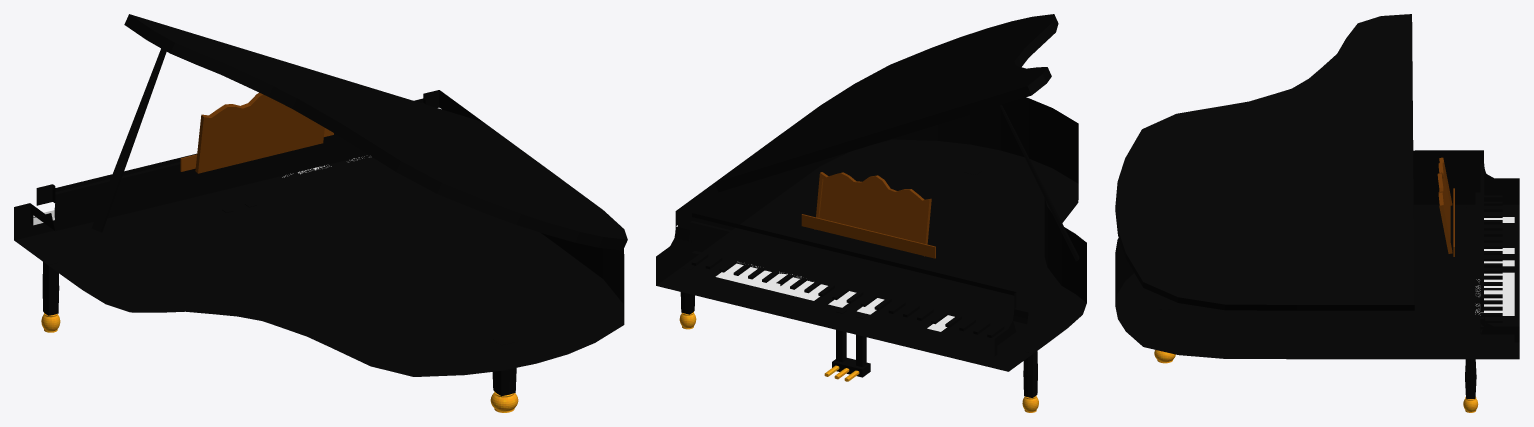
File: grand_piano_opened.obj
3 views of the same model, side by side, from view 1: azimuth 30°, elevation 25°; view 2: azimuth 150°, elevation 25°; view 3: azimuth 270°, elevation 25° (orthographic). The views are drawn at different scales.
Visible parts, largest first — view 1: Sphere.001; view 2: Sphere.001; view 3: Sphere.001.
Part boxes in pixels (bbox=[...]): Sphere.001: bbox=[14, 14, 627, 412]; Sphere.001: bbox=[656, 14, 1086, 412]; Sphere.001: bbox=[1115, 14, 1519, 412].
Bounding box in the file's own units: 5.35 × 4.19 × 5.83.
